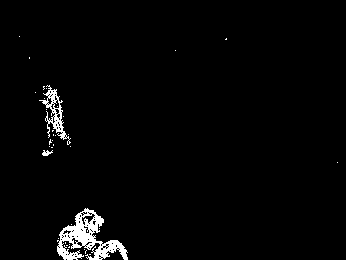person: (38, 82, 68, 158)
